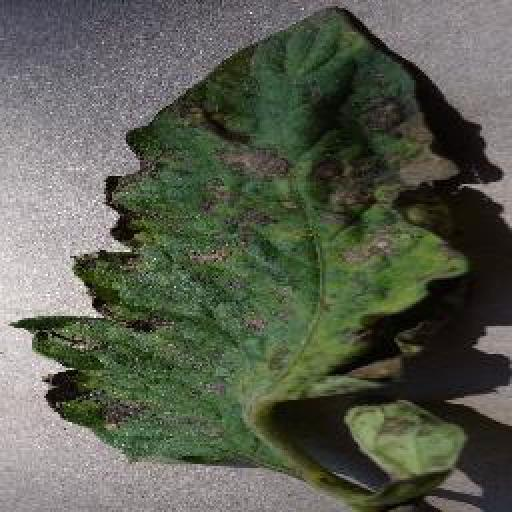Early Blight: (15, 8, 474, 512)
